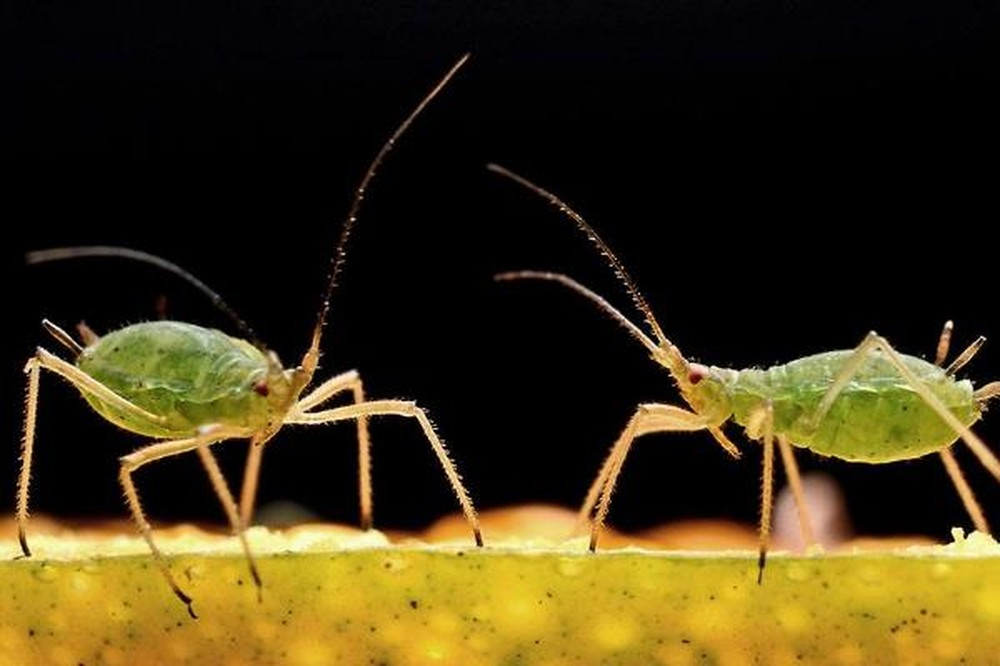Pulgon: (20, 119, 519, 607), (522, 153, 998, 591)
